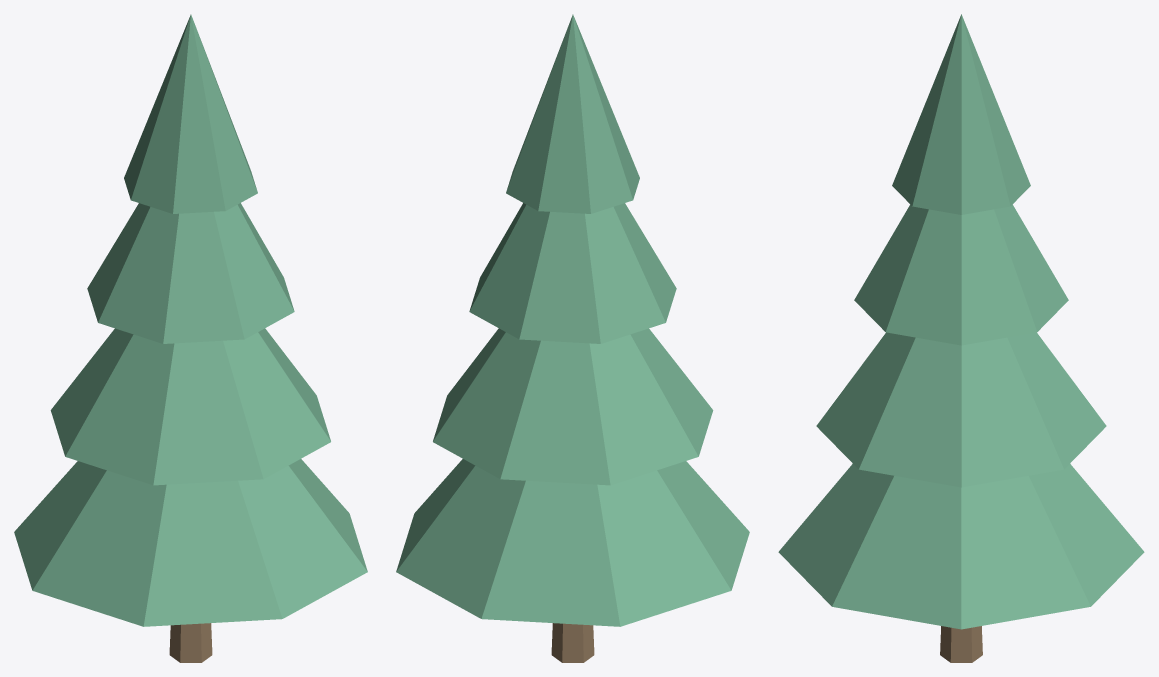
File: tree_pine_s.glb
The picture shows the model from 3 angles, left to right: view 1: azimuth 30°, elevation 25°; view 2: azimuth 150°, elevation 25°; view 3: azimuth 270°, elevation 25°; orthographic projection.
Parts seen in each view (by area): view 1: leaves, trunk; view 2: leaves, trunk; view 3: leaves, trunk.
Part boxes in pixels (x1=…): leaves: x1=14, y1=14, x2=367, y2=626; trunk: x1=169, y1=623, x2=212, y2=662; leaves: x1=396, y1=14, x2=749, y2=626; trunk: x1=551, y1=623, x2=594, y2=662; leaves: x1=778, y1=14, x2=1144, y2=629; trunk: x1=940, y1=626, x2=982, y2=662.
Bounding box in the file's own units: 1.6 × 3.08 × 1.6.
